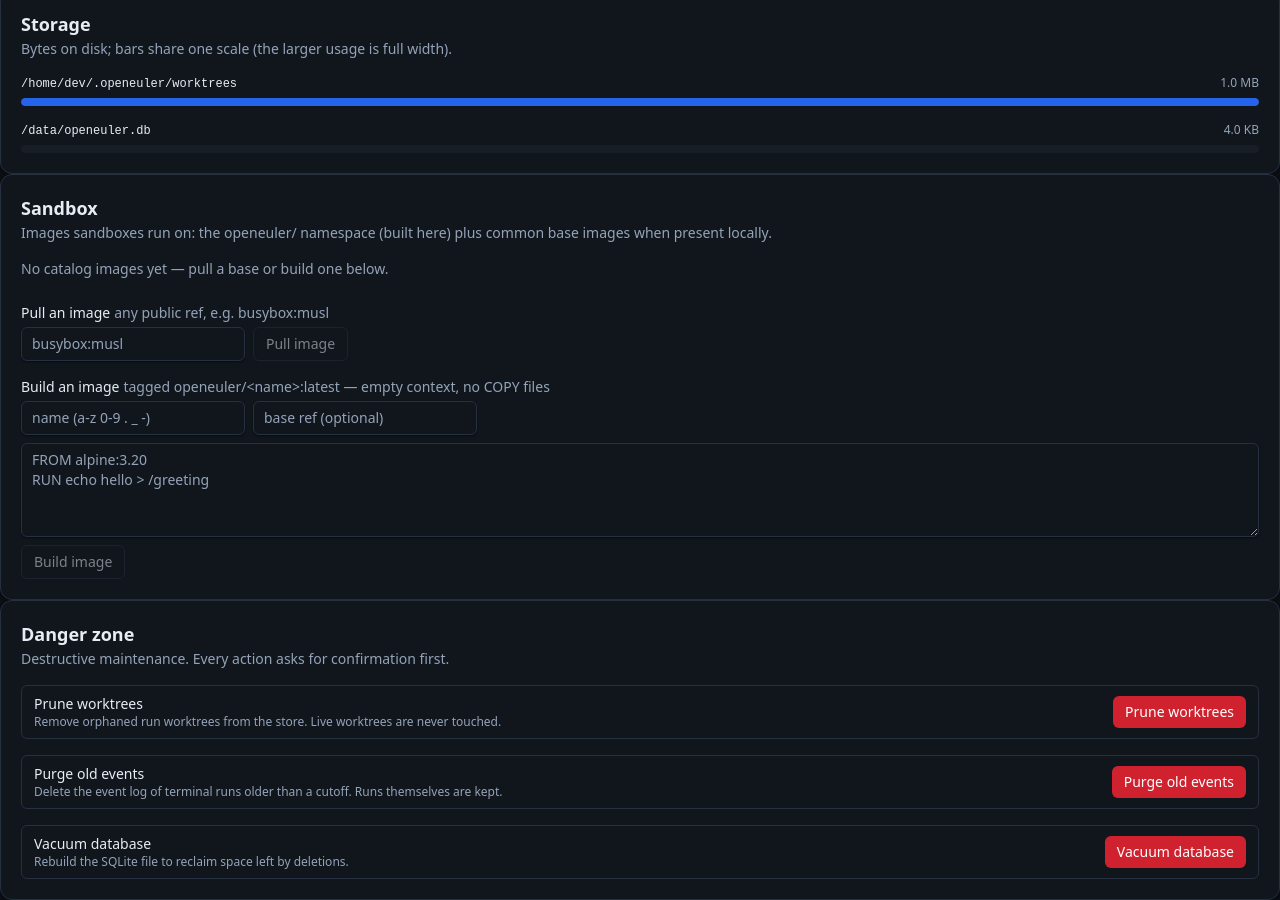
Scenario: danger zone: vacuum (#95) › confirms without type-to-confirm, toasts the new size and refetches
The image size is (1280, 900).
(page scrolled)
Click the button "Vacuum database". click: click(1175, 852)
box: x1=1105 y1=836 x2=1246 y2=868
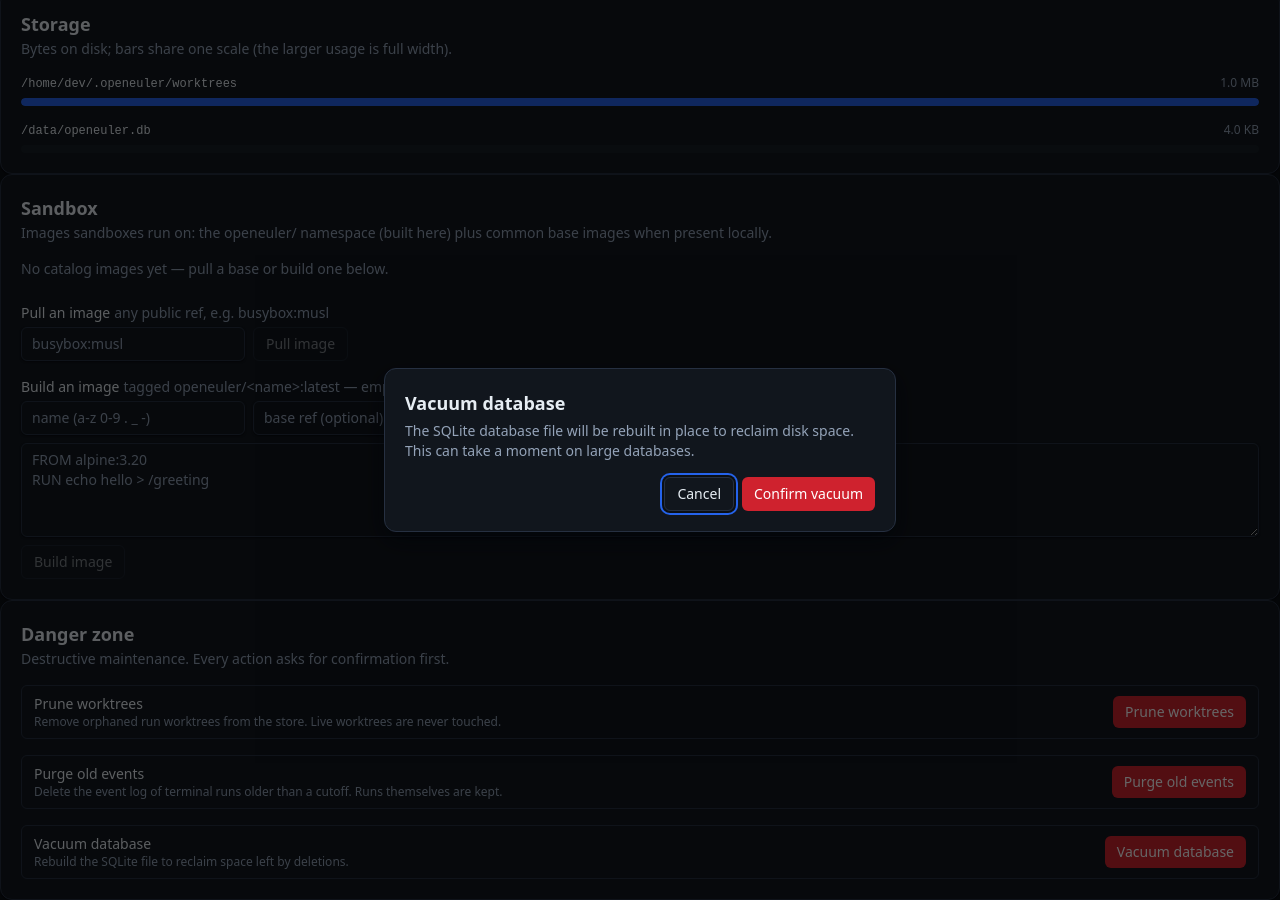
Expected: the button "Confirm vacuum" is enabled
Click the button "Confirm vacuum". click: click(808, 494)
box: x1=742 y1=477 x2=875 y2=511
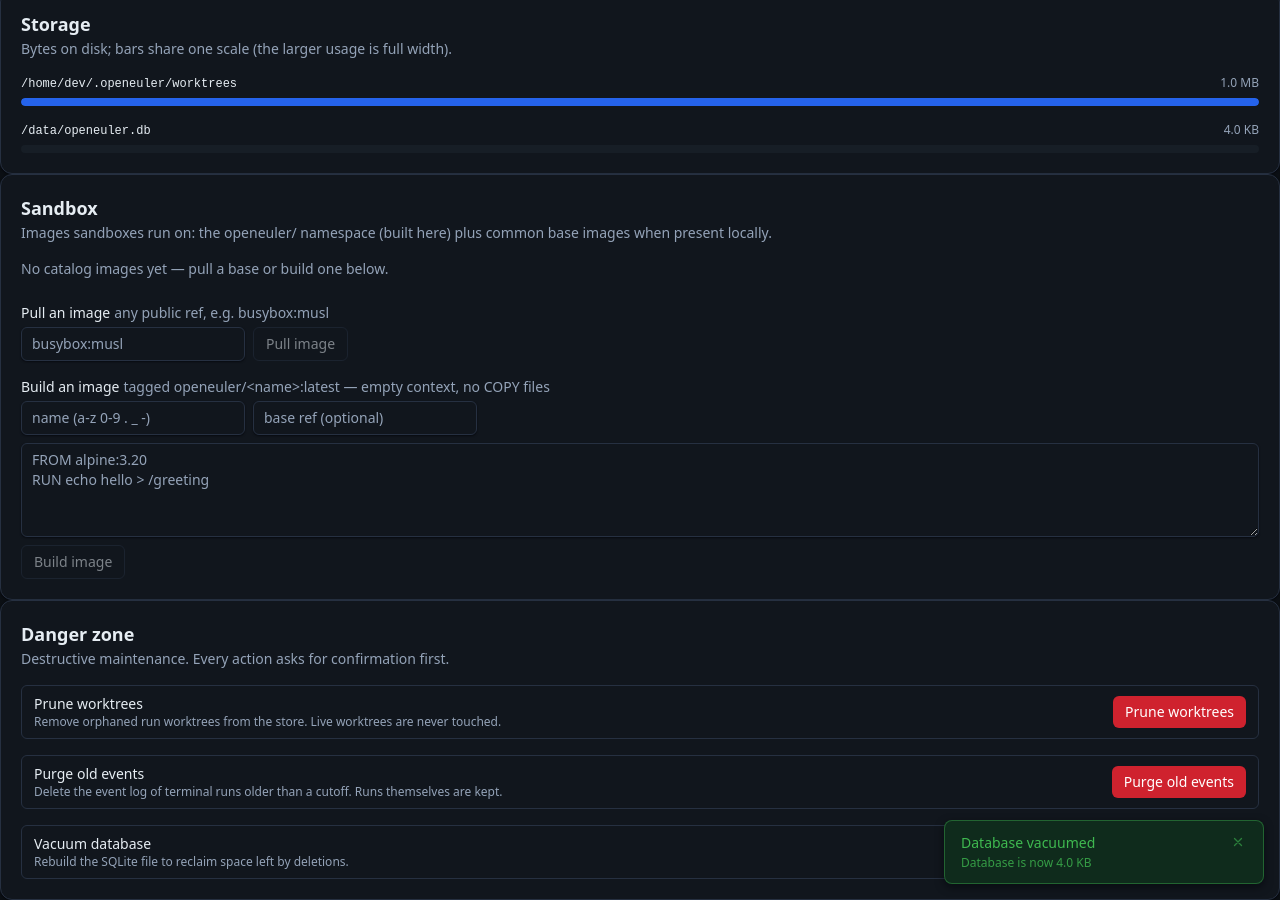
Expected: the text "Database vacuumed" is shown, x1=961 y1=833 x2=1095 y2=853
Expected: the text "Database is now 4.0 KB" is shown, x1=961 y1=855 x2=1095 y2=871
